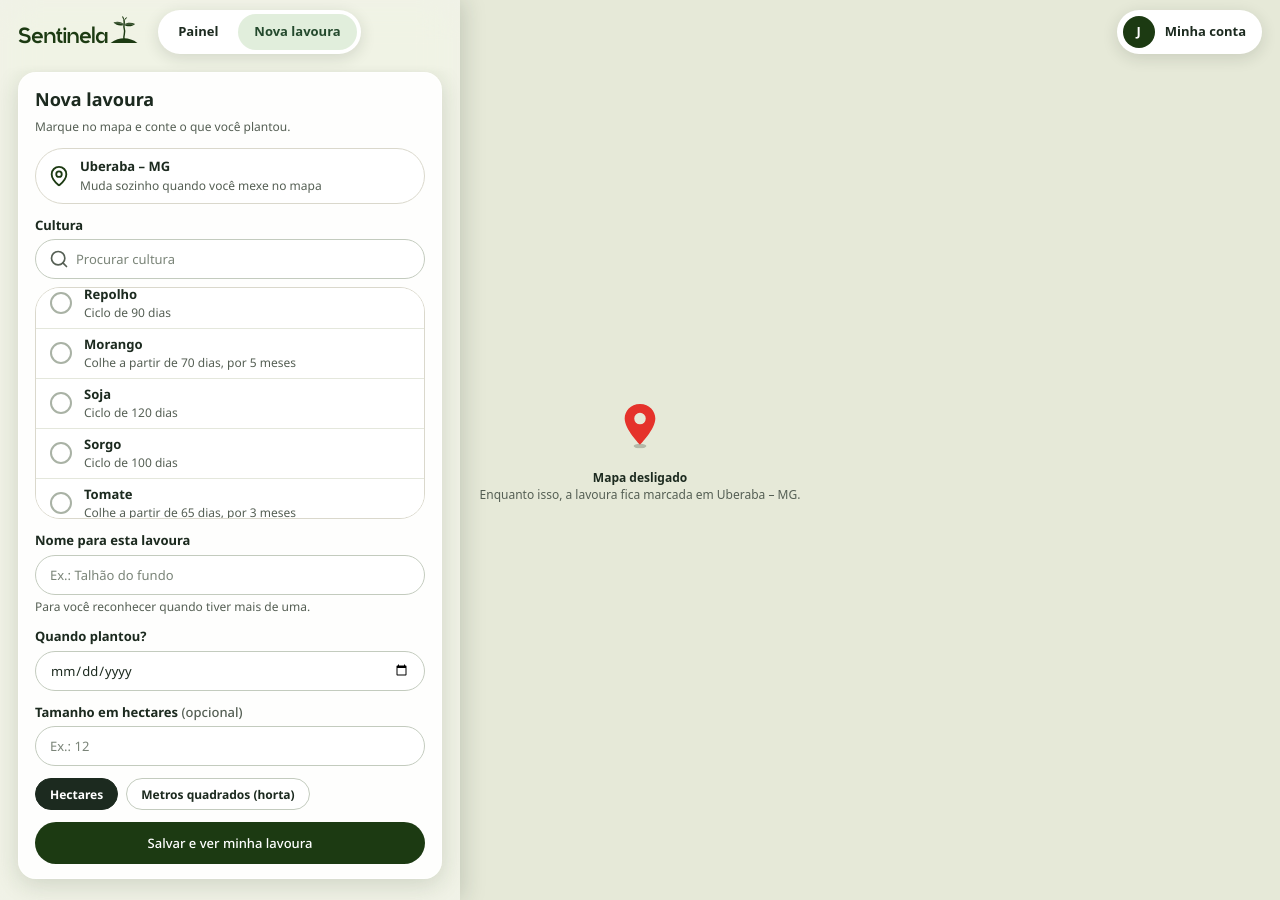
Nova lavoura no computador › sem conexão, mostra a caixa de erro
(page scrolled)
Click the radio button labelled "Soja" at [61, 403], box x1=50 y1=392 x2=72 y2=414
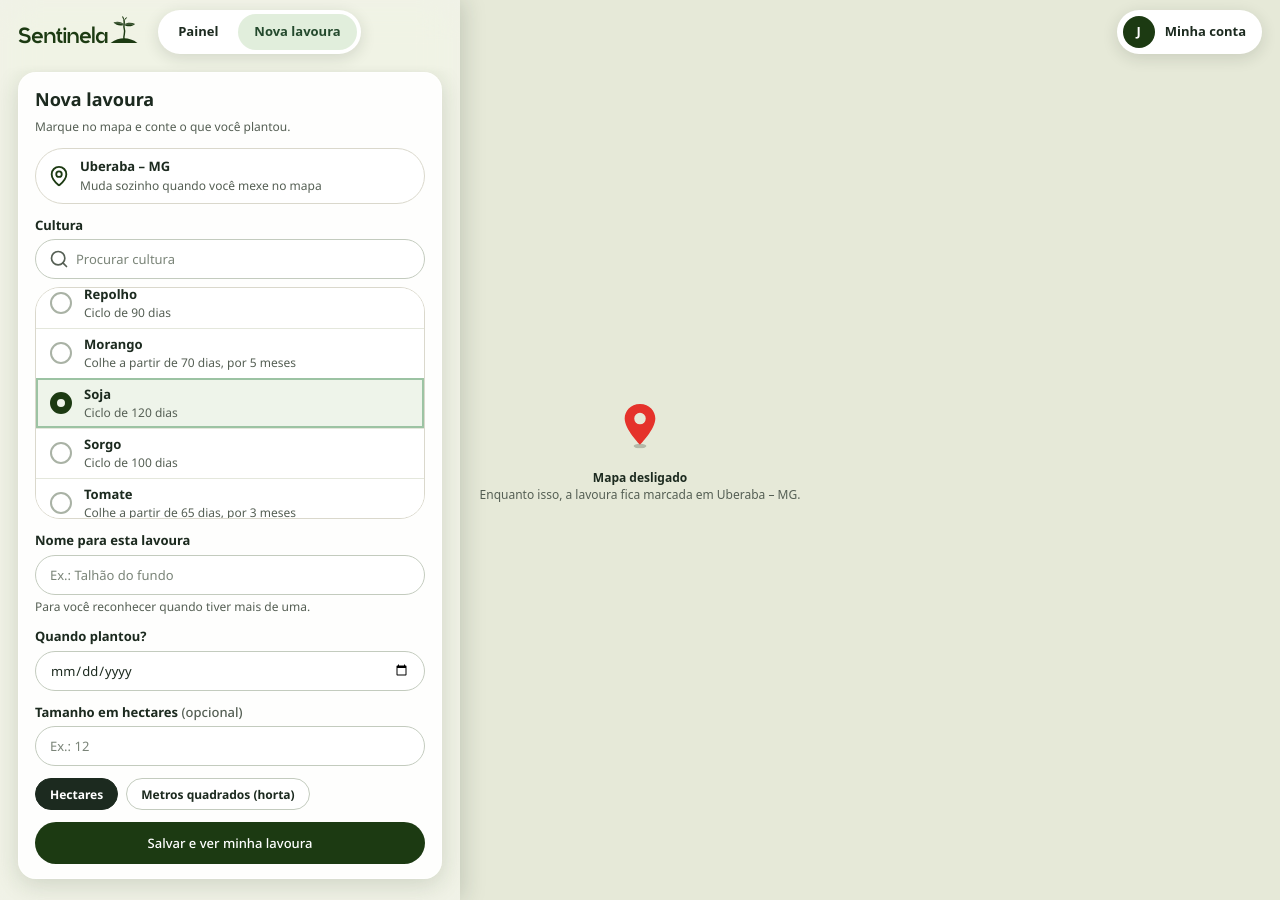
Type "Roça nova" into the field labelled "Nome para esta lavoura" at [230, 575], box x1=35 y1=555 x2=425 y2=595
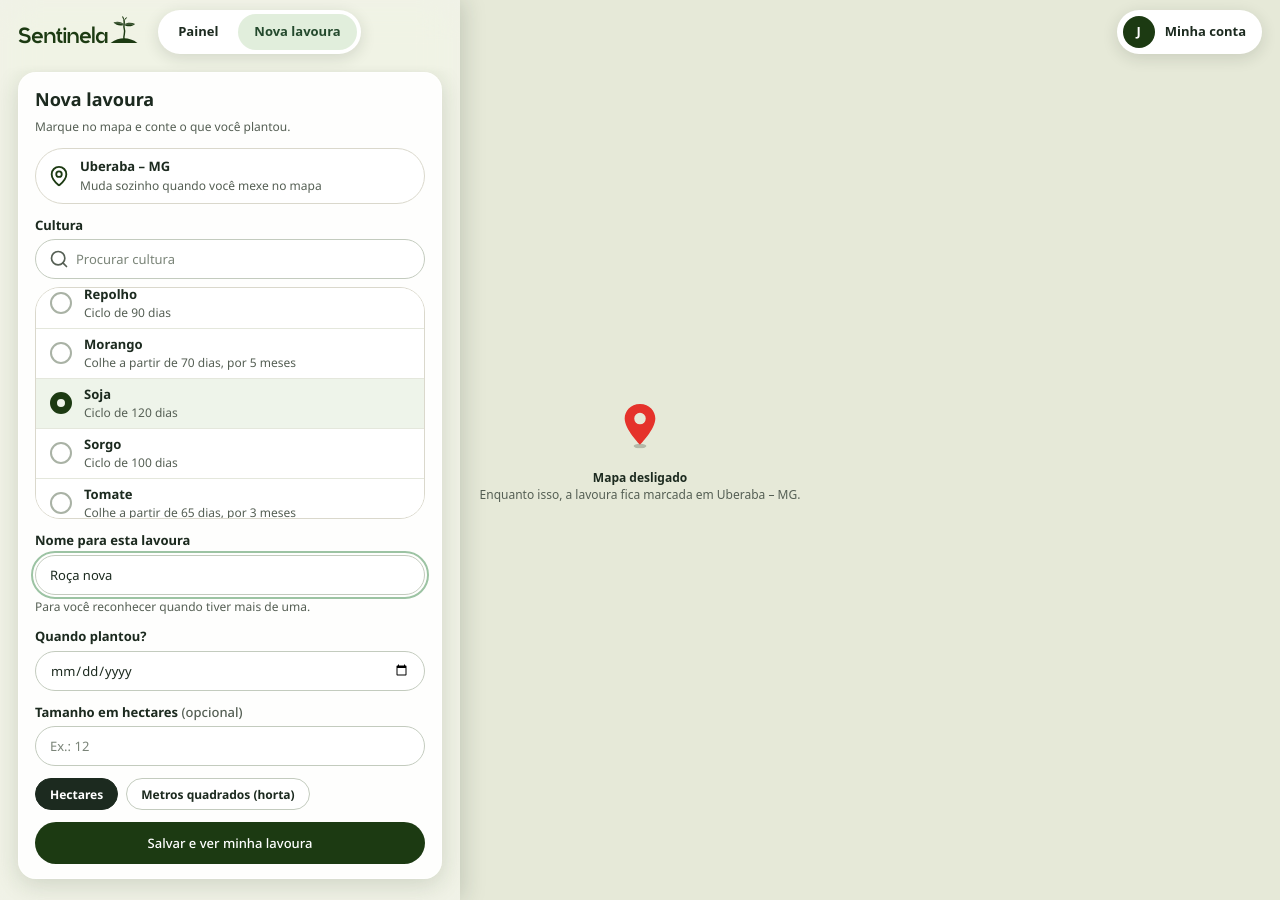
Type "2026-08-27" into the date field labelled "Quando plantou?" at [230, 671], box x1=35 y1=651 x2=425 y2=691
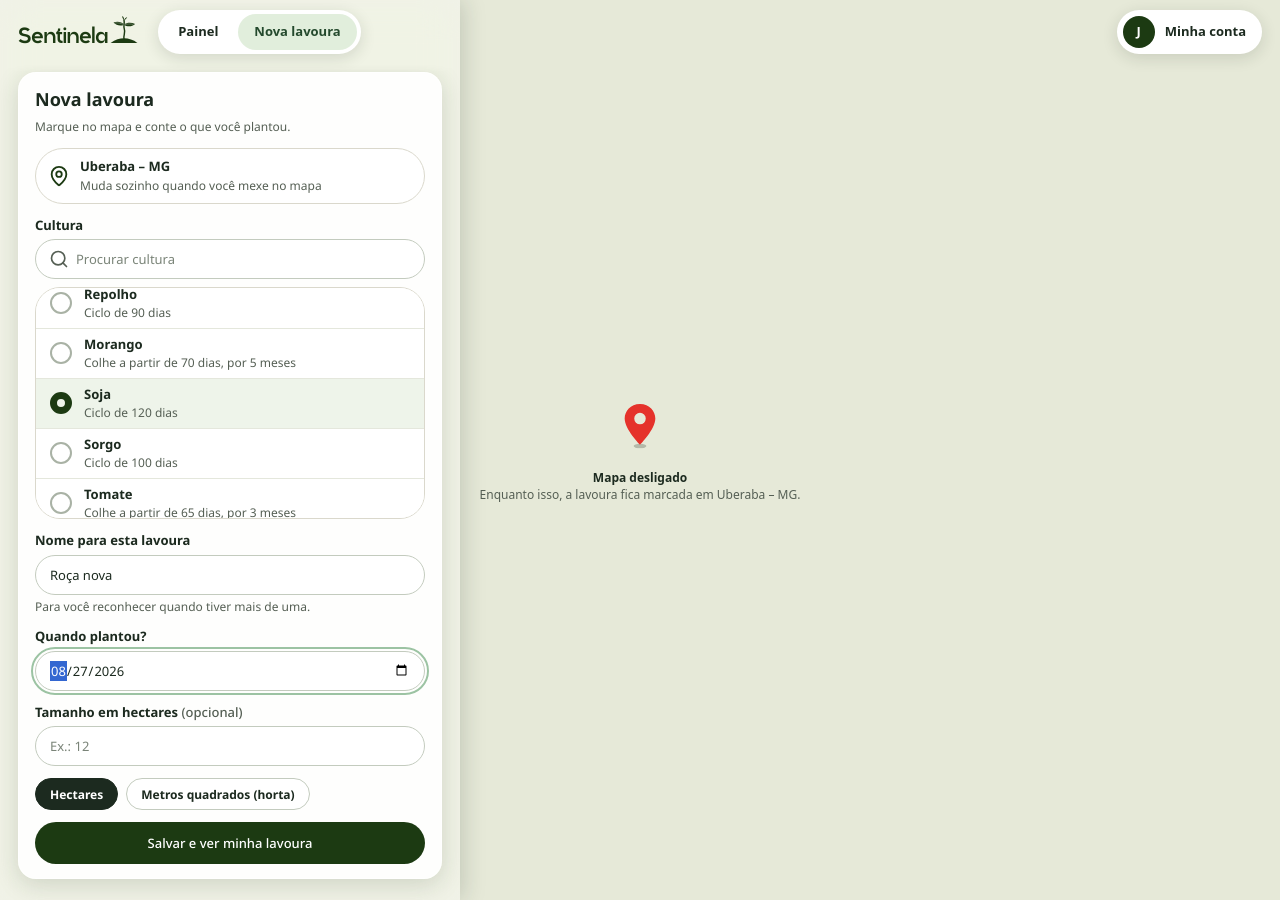
Click the button "Salvar e ver minha lavoura" at [230, 844], box x1=35 y1=822 x2=425 y2=864
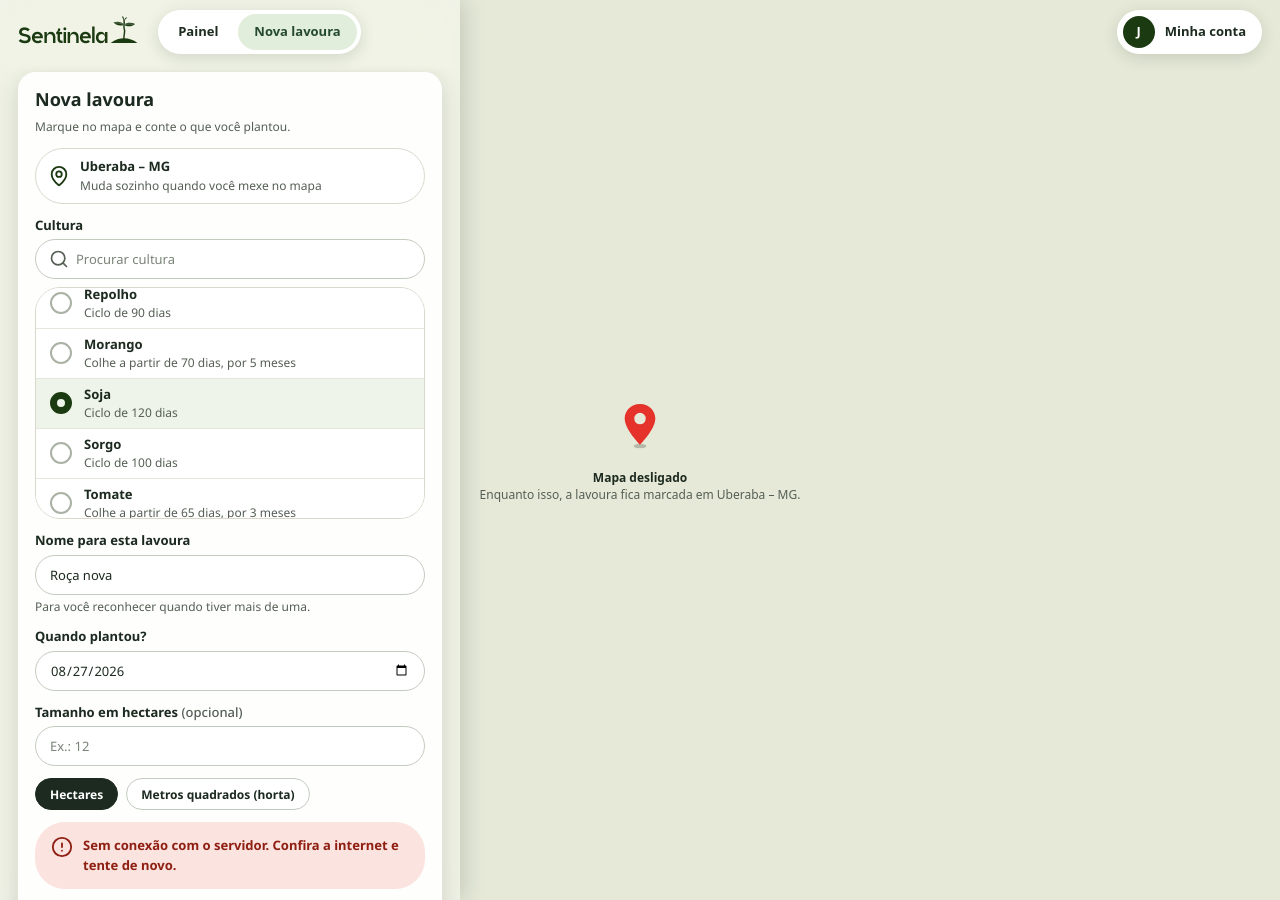
Check: the message shows "Sem conexão com o servidor", box x1=83 y1=836 x2=399 y2=874
